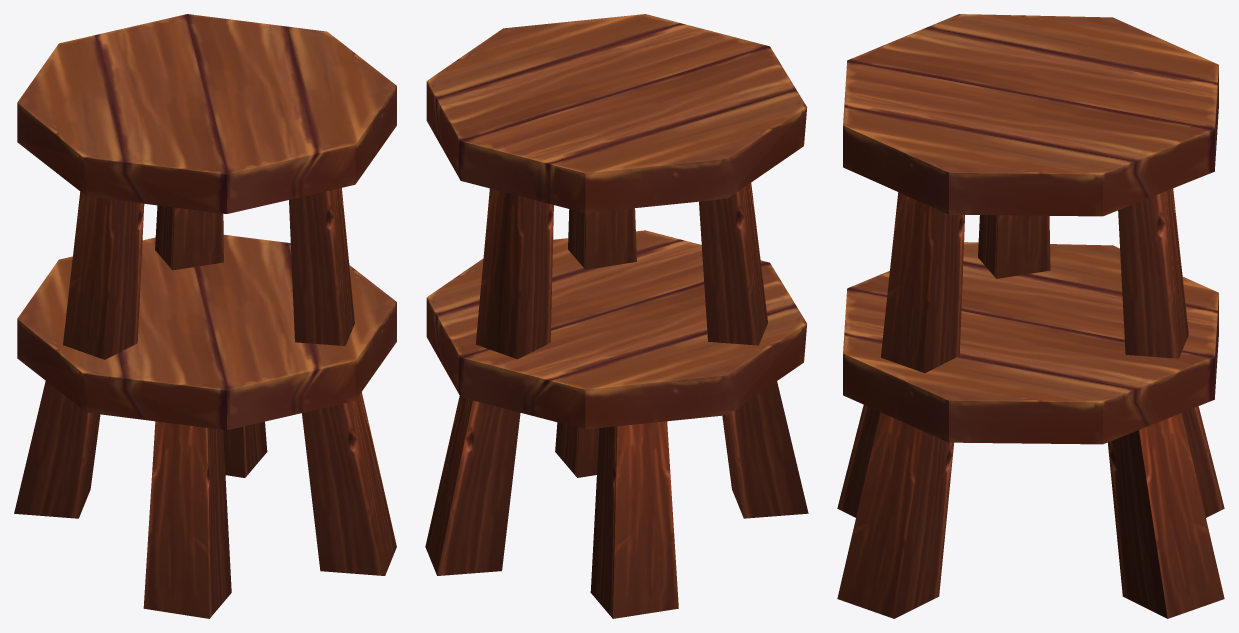
Rendered from YiZi02.FBX.
3 views of the same model, side by side, from view 1: azimuth 30°, elevation 25°; view 2: azimuth 150°, elevation 25°; view 3: azimuth 270°, elevation 25° (orthographic). The views are drawn at different scales.
Visible parts, largest first — view 1: YiZi02; view 2: YiZi02; view 3: YiZi02.
Part boxes in pixels (<box>): YiZi02: <box>14,14,396,618</box>; YiZi02: <box>425,14,808,618</box>; YiZi02: <box>837,14,1224,618</box>.
Size of the model in its own units: 32.65 by 43.57 by 33.29.
